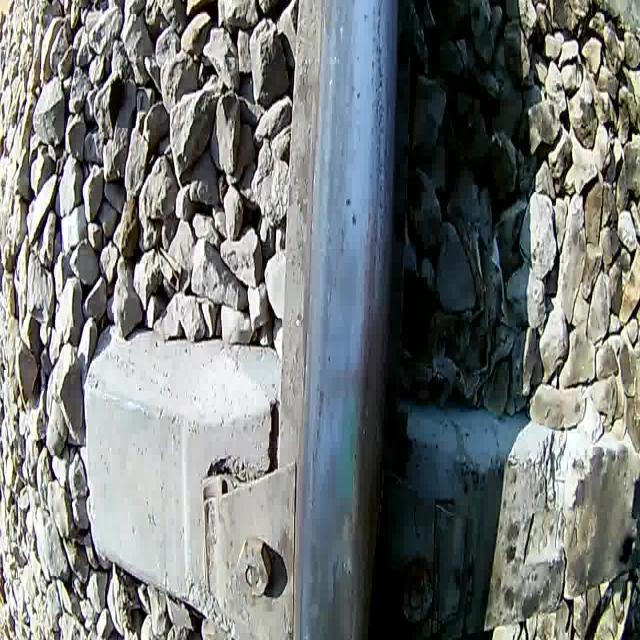Squats: (323, 553, 362, 640)
